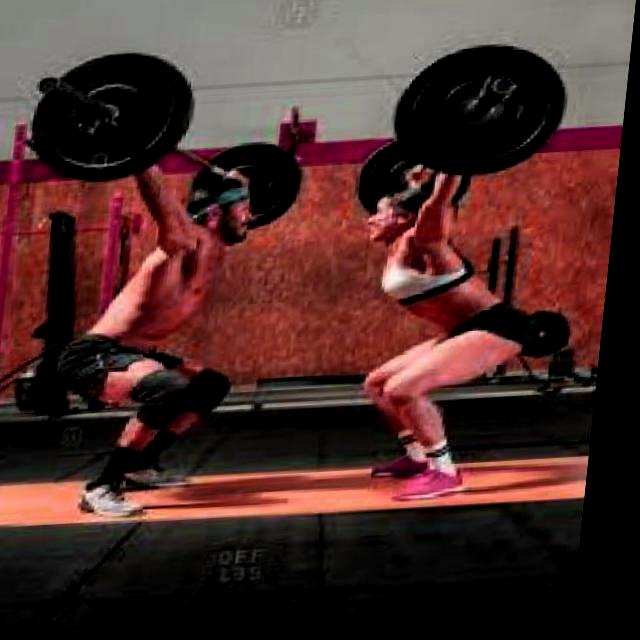barbell: (387, 45, 580, 193), (30, 50, 202, 187)
